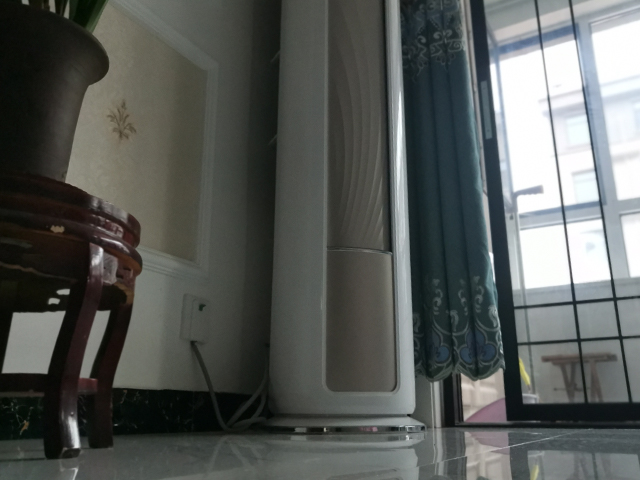curtain: (398, 1, 512, 383)
stool: (1, 168, 146, 461), (539, 352, 619, 402)
wire: (186, 340, 270, 434)
